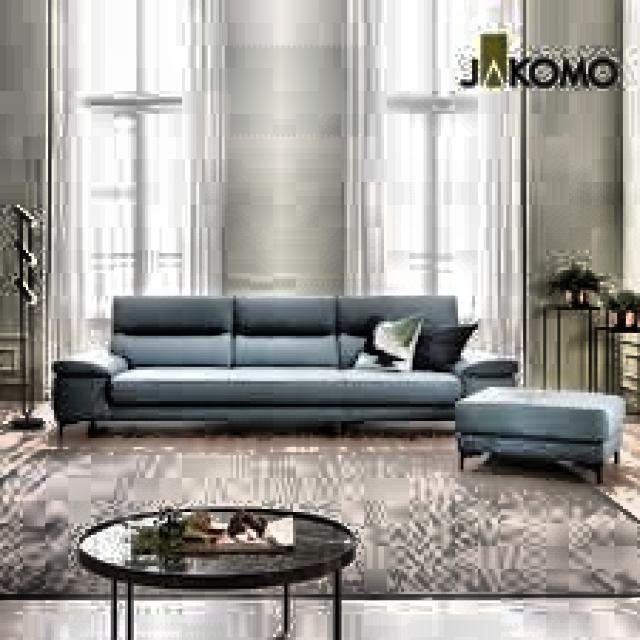sofa: (57, 290, 523, 438)
